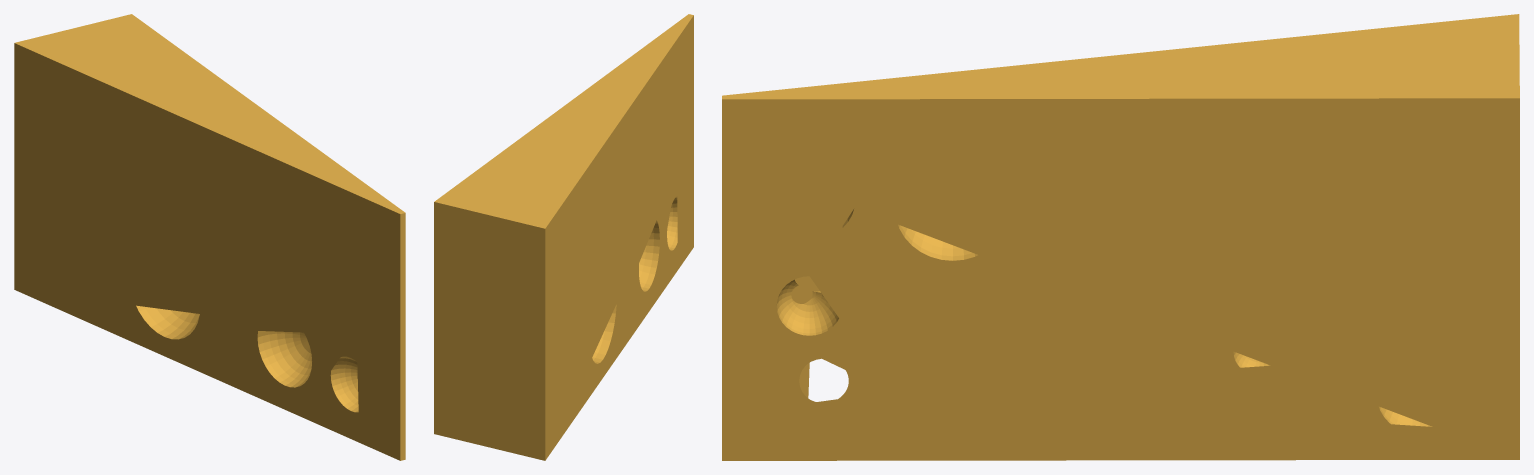
The model's file is CheeseLeft.fbx.
3 views of the same model, side by side, from view 1: azimuth 30°, elevation 25°; view 2: azimuth 150°, elevation 25°; view 3: azimuth 270°, elevation 25° (orthographic). The views are drawn at different scales.
Parts seen in each view (by area): view 1: Куб.001; view 2: Куб.001; view 3: Куб.001.
Part boxes in pixels (x1,y1,x2,y2): Куб.001: (14,14,405,460); Куб.001: (434,14,693,460); Куб.001: (722,14,1519,460).
Bounding box in the file's own units: 101 × 200 × 400.
